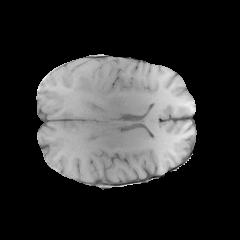glioma: (63, 63, 107, 100)
